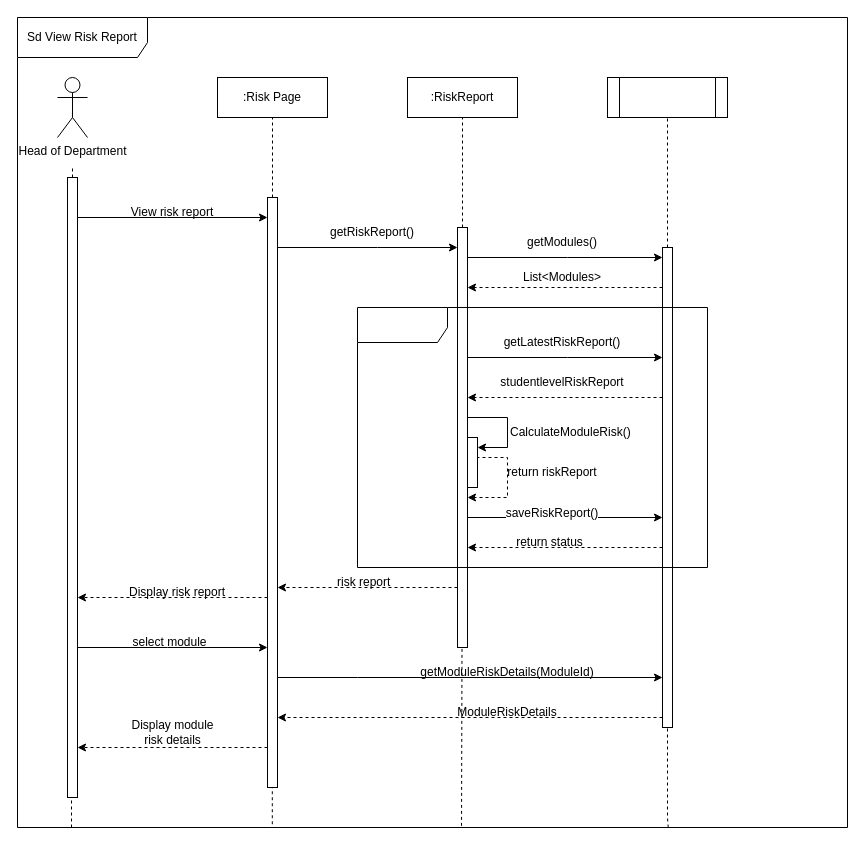
Image size: 865x846. Some labels were removed from this diagram. Here are the shapes that lost their labels. From the top down, the box of each, then its label:
(606, 76, 728, 118): :Database
(356, 306, 708, 568): Loop while modules exist
